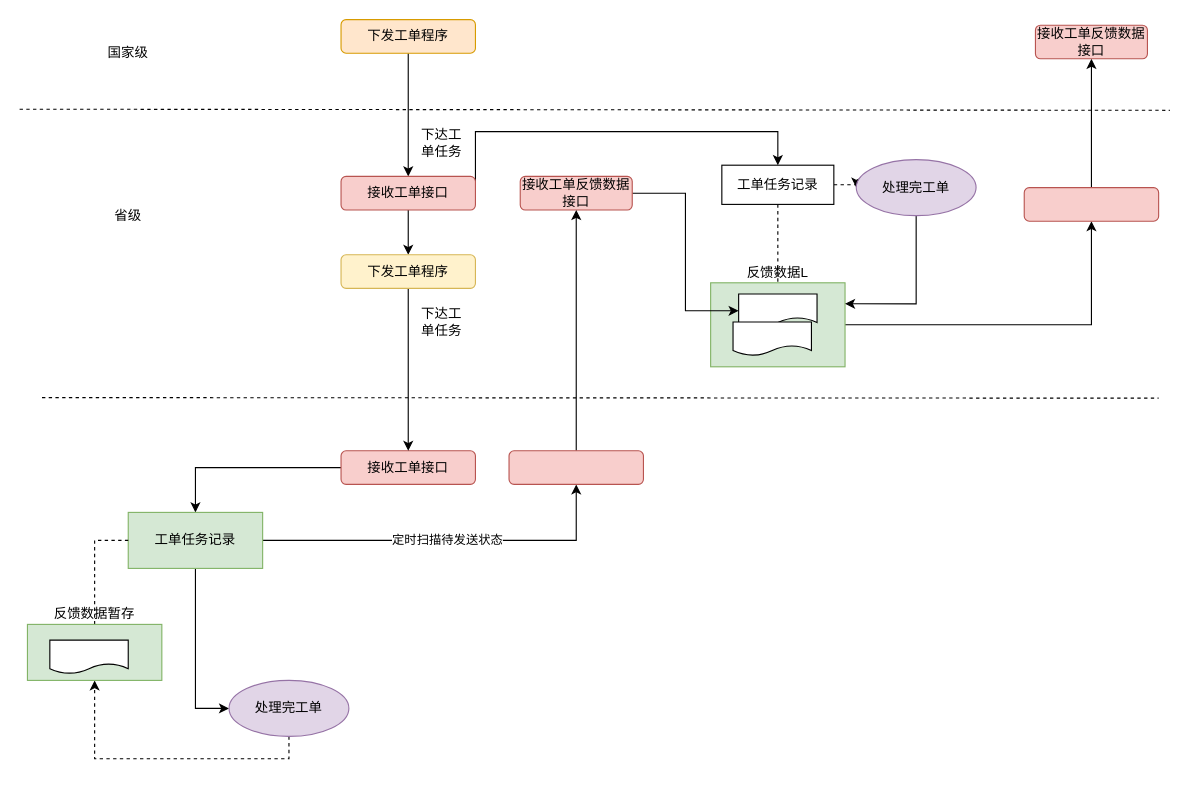
Image size: 1191x787. Some labels were removed from this diagram. The centre of each missing label's shape, as x and y in pixels:
反馈工单接口: (1091,203)
反馈工单程序: (575,467)
